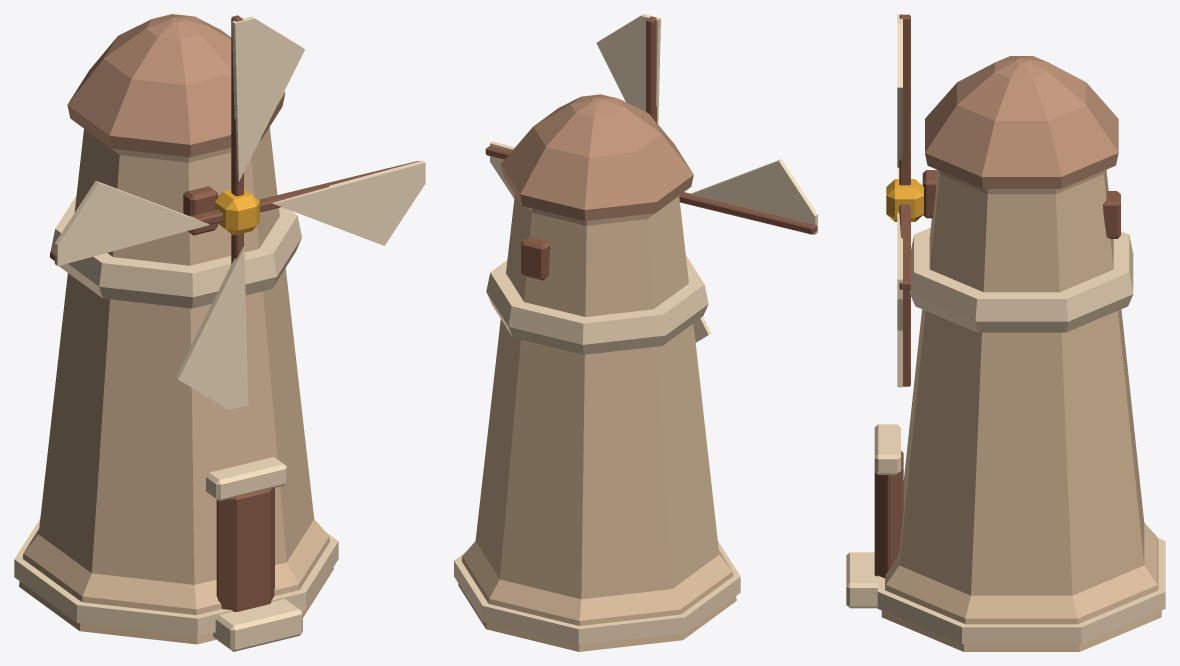
File: Windmill.fbx
3 views of the same model, side by side, from view 1: azimuth 30°, elevation 25°; view 2: azimuth 150°, elevation 25°; view 3: azimuth 270°, elevation 25° (orthographic). The views are drawn at different scales.
Visible parts, largest first — view 1: WindmillTower, WindmillRotor; view 2: WindmillTower, WindmillRotor; view 3: WindmillTower, WindmillRotor.
Boxes of the visible parts, x1,y1,x2,y2 form: WindmillTower: (14, 14, 338, 651); WindmillRotor: (50, 15, 425, 409); WindmillTower: (454, 94, 740, 651); WindmillRotor: (485, 14, 817, 342); WindmillTower: (846, 56, 1165, 651); WindmillRotor: (886, 14, 923, 387).
Bounding box in the file's own units: 2.8 × 4.37 × 2.19.
